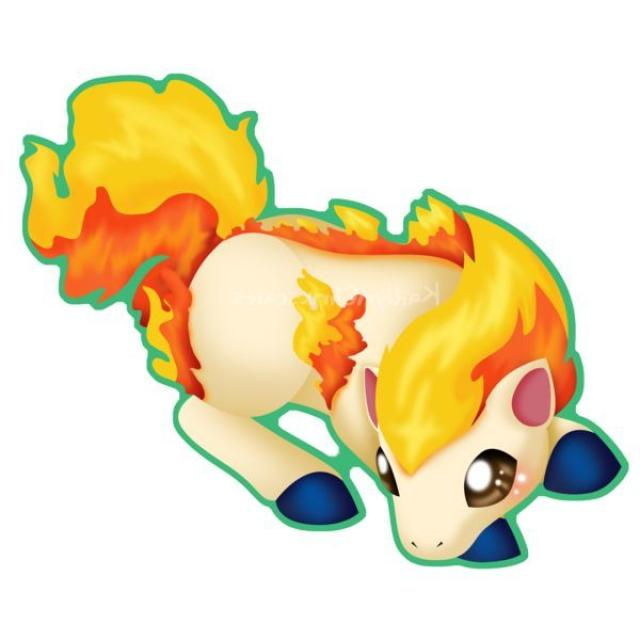Ponyta: (148, 173, 568, 561)
